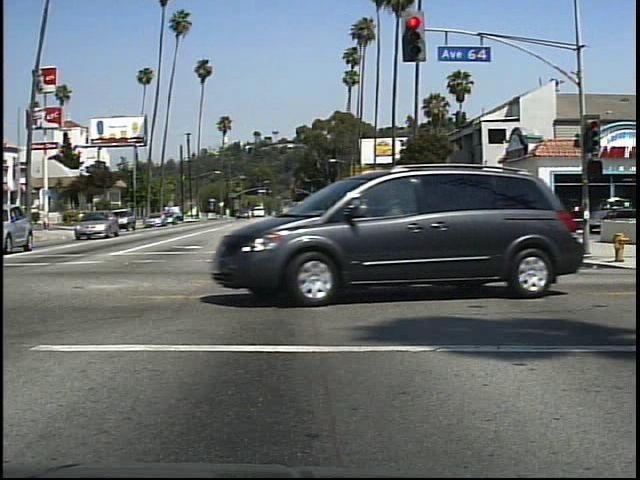person: (530, 194, 556, 247)
